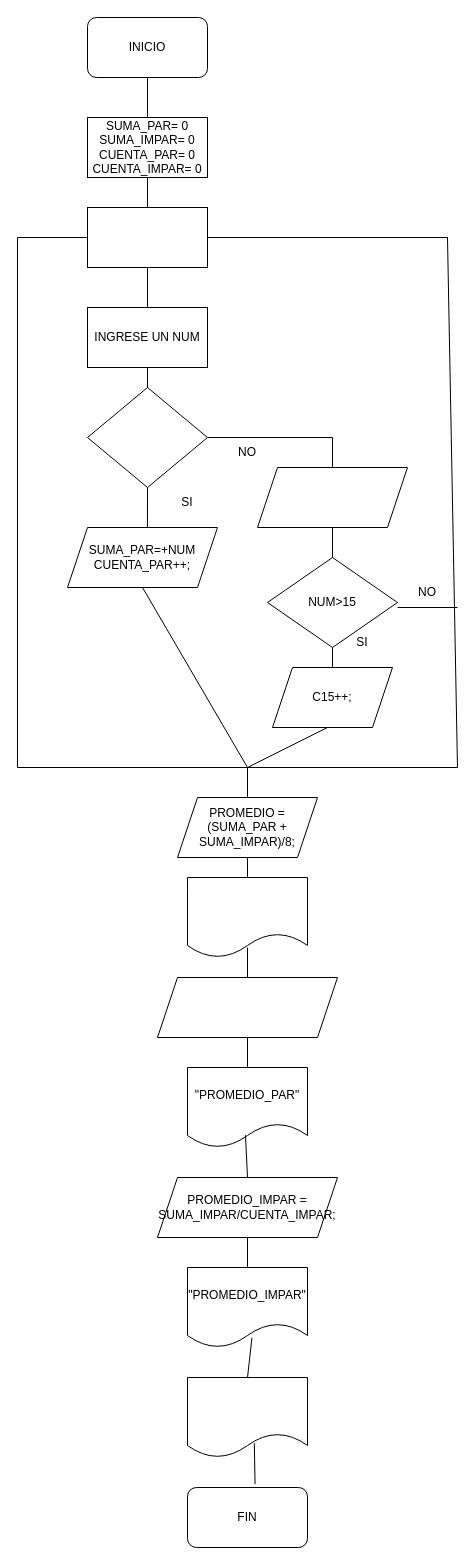
Some shapes in this 476 by 1565 pixel diagram are drawn without their labels. Each missing label, with the centre of its shape:
"C15": the point at 247,1417
"PROMEDIO": the point at 247,917
FMOD(NUM,2)==0: the point at 147,437
i= 1 A 8: the point at 147,237
PROMEDIO_PAR = SUMA_PAR/CUENTA_PAR;: the point at 247,1007
SUMA_IMPAR=+NUM CUENTA_IMPAR++;: the point at 332,497
